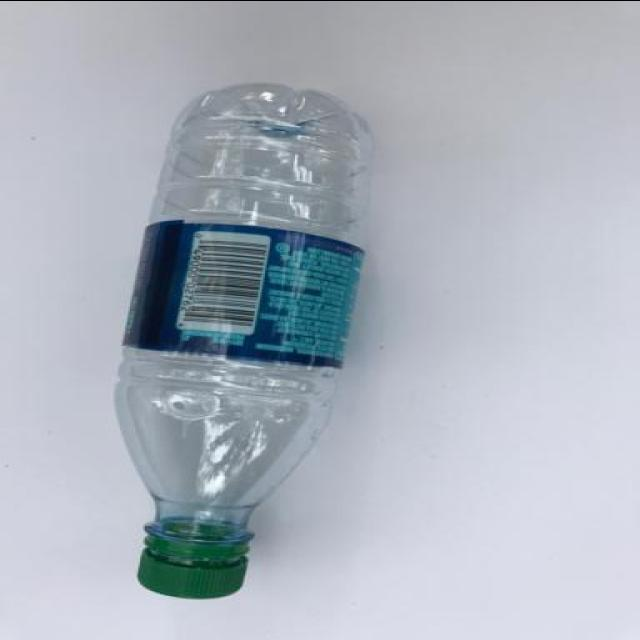PET: (115, 80, 387, 601)
